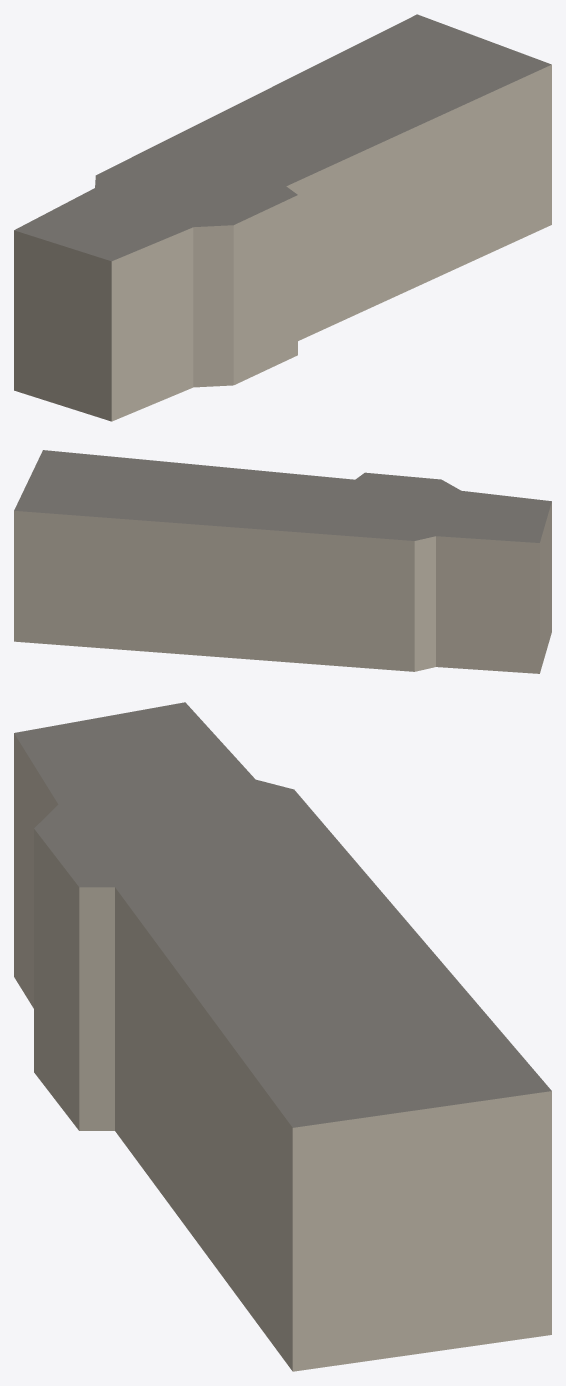
The picture shows the model from 3 angles, top to bottom: view 1: azimuth 30°, elevation 25°; view 2: azimuth 150°, elevation 25°; view 3: azimuth 270°, elevation 25°; orthographic projection. The views are drawn at different scales.
Visible parts, largest first — view 1: HP-w1516161924; view 2: HP-w1516161924; view 3: HP-w1516161924.
Part boxes in pixels (box(x1,y1,x2,y2)): HP-w1516161924: box(14, 14, 551, 421); HP-w1516161924: box(14, 450, 551, 673); HP-w1516161924: box(14, 702, 551, 1371).
Size of the model in its own units: 67.38 by 18 by 35.99.
